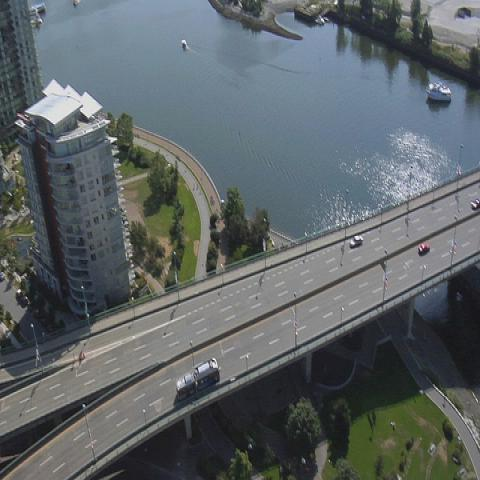bus: (174, 357, 220, 400)
car: (14, 286, 29, 308), (418, 241, 431, 254), (350, 236, 363, 248), (470, 199, 480, 211), (0, 271, 6, 281)
